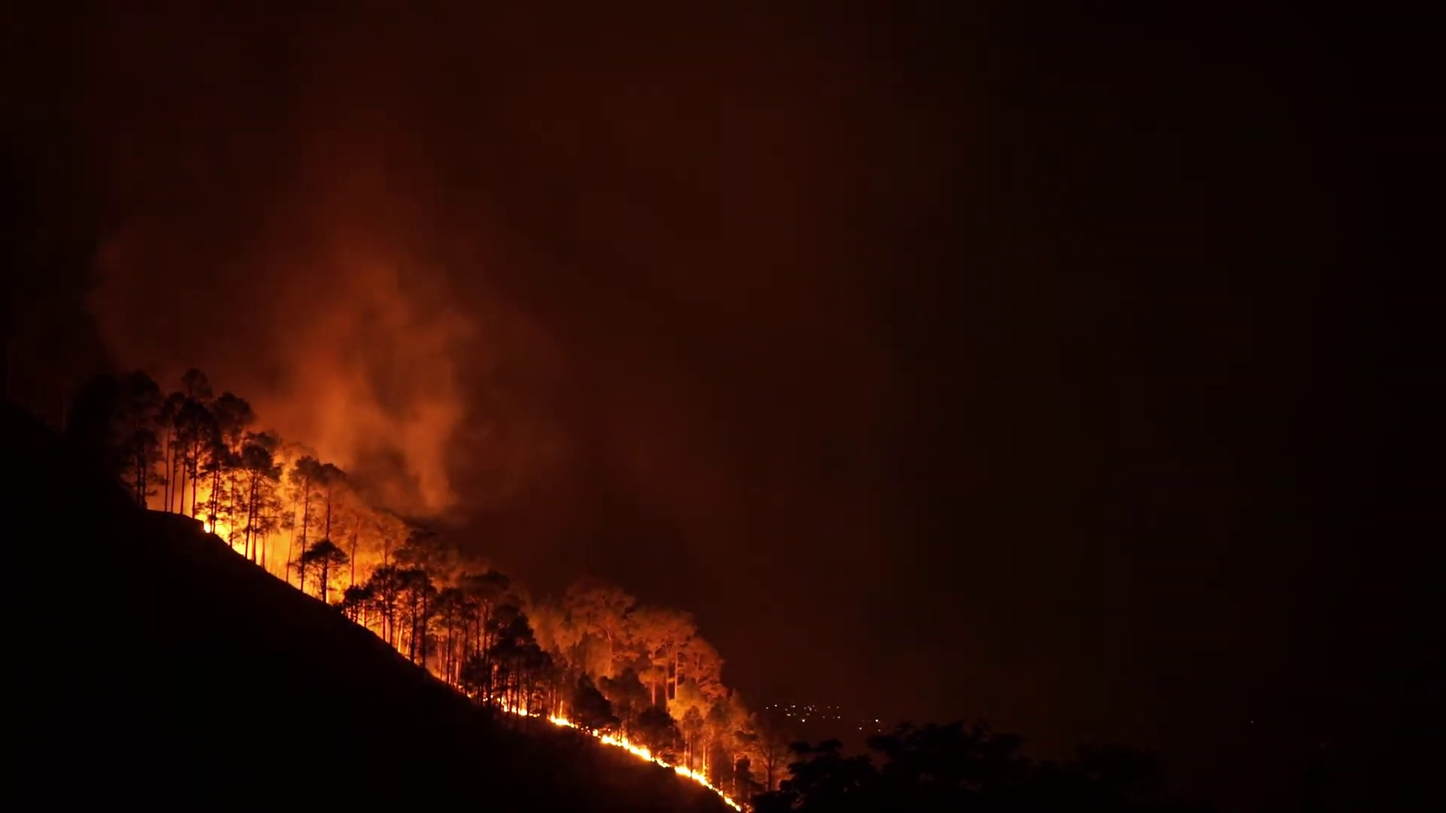forest_fire: (96, 370, 779, 808), (90, 392, 95, 394)
